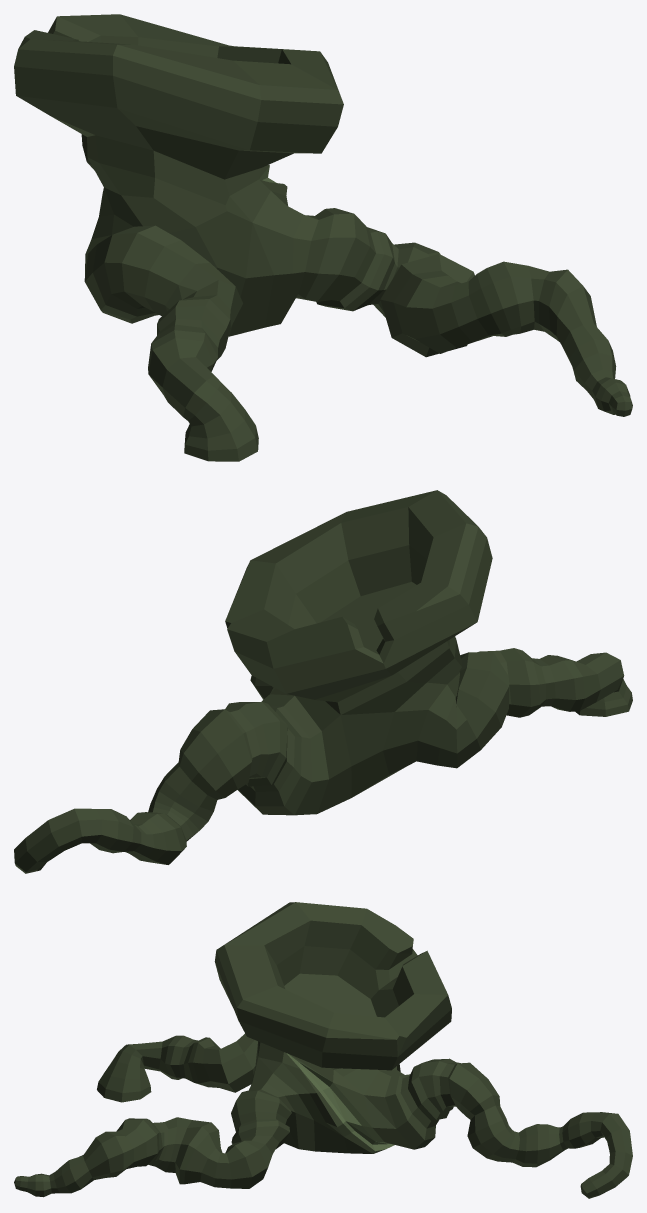
File: EA_Swamp_tree10.glb
3 views of the same model, one above another, from view 1: azimuth 30°, elevation 25°; view 2: azimuth 150°, elevation 25°; view 3: azimuth 270°, elevation 25° (orthographic). The views are drawn at different scales.
Visible parts, largest first — view 1: EA_Swamp_tree10; view 2: EA_Swamp_tree10; view 3: EA_Swamp_tree10.
Boxes of the visible parts, bbox=[...] form: EA_Swamp_tree10: bbox=[14, 14, 632, 461]; EA_Swamp_tree10: bbox=[14, 490, 632, 873]; EA_Swamp_tree10: bbox=[14, 902, 632, 1198].
Bounding box in the file's own units: 4.77 × 3.61 × 9.87.
Materials: 1 (1 with a texture image).
